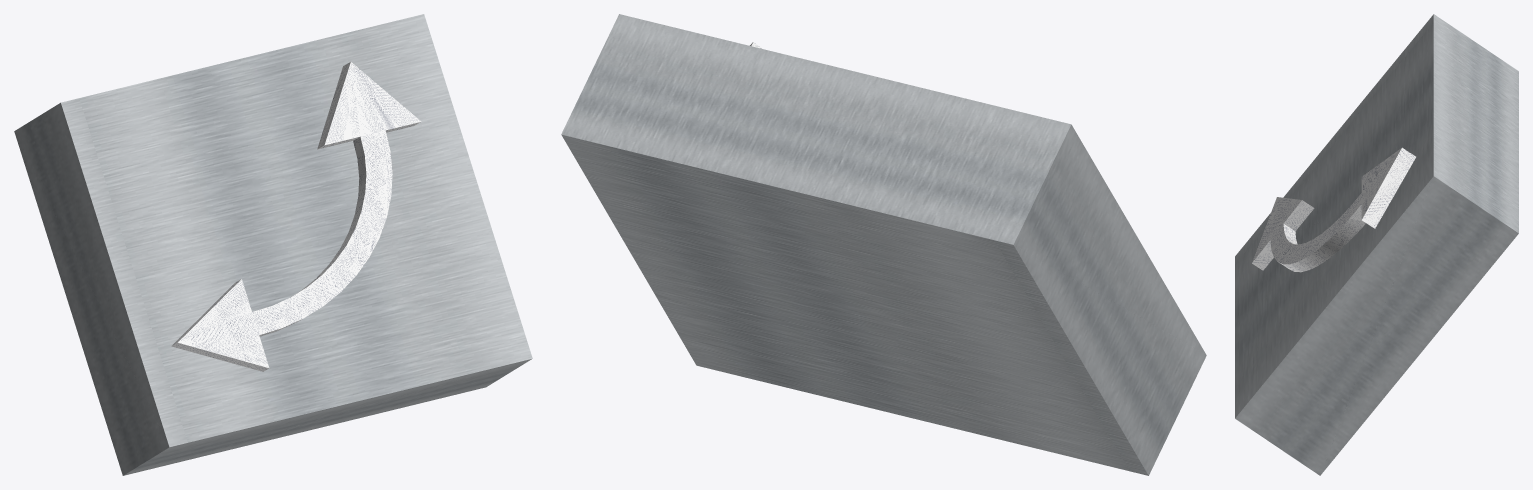
Rendered from arrow-right.gltf.
3 views of the same model, side by side, from view 1: azimuth 30°, elevation 25°; view 2: azimuth 150°, elevation 25°; view 3: azimuth 270°, elevation 25° (orthographic). The views are drawn at different scales.
Visible parts, largest first — view 1: Cube, instance_1.035; view 2: Cube; view 3: Cube, instance_1.035.
Boxes of the visible parts, x1=… form: Cube: x1=14, y1=14, x2=532, y2=475; instance_1.035: x1=171, y1=62, x2=421, y2=371; Cube: x1=561, y1=14, x2=1206, y2=475; Cube: x1=1235, y1=14, x2=1518, y2=475; instance_1.035: x1=1252, y1=147, x2=1415, y2=272.
Size of the model in its own units: 0.3568 by 0.3077 by 0.2641.
Materials: 3 (1 with a texture image).
